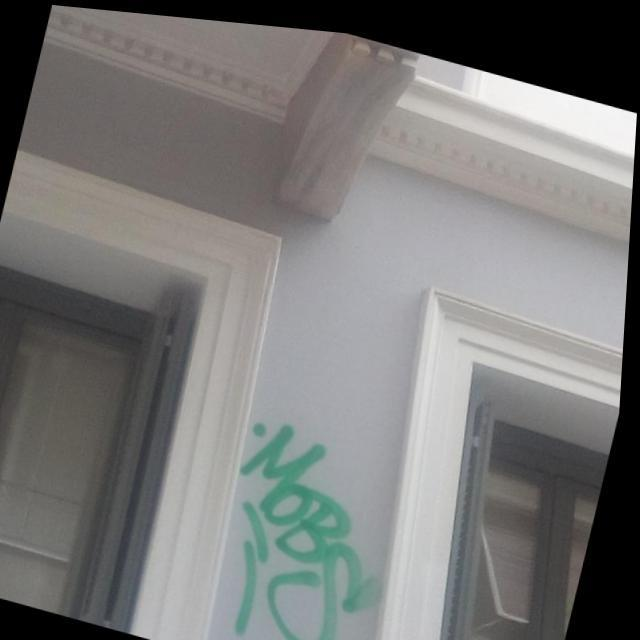-: (203, 405, 420, 640)
